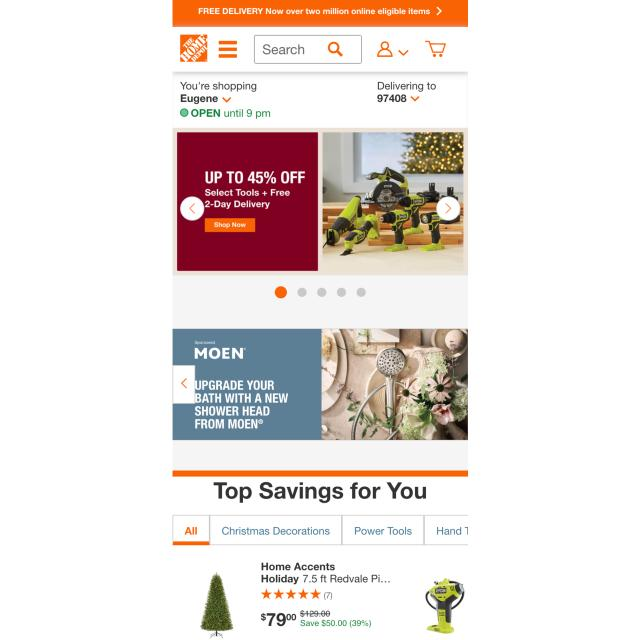CheckedTextView: (252, 34, 363, 65)
ImageView: (173, 329, 468, 441)
ProgressBar: (172, 0, 468, 27)
QR code: (174, 73, 467, 127)
Switch: (177, 131, 465, 276)
alert: (376, 92, 423, 106), (377, 40, 411, 59), (180, 93, 233, 104)
bag: (172, 0, 468, 71)
carousel: (424, 40, 449, 59), (325, 40, 344, 59)
data feed: (261, 42, 306, 56)
date picker: (180, 32, 209, 63)
decoration: (171, 514, 474, 546), (217, 38, 238, 60)
dropdown: (270, 281, 369, 300)
